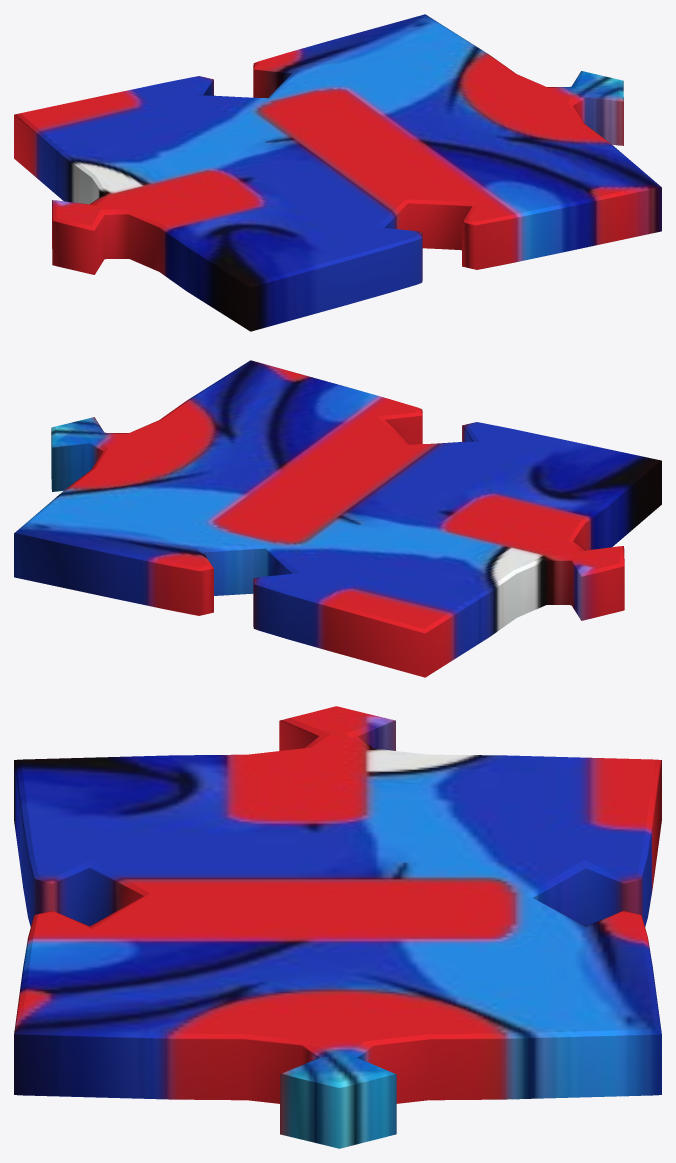
3 renders of one model, top to bottom at view 1: azimuth 30°, elevation 25°; view 2: azimuth 150°, elevation 25°; view 3: azimuth 270°, elevation 25°, orthographic. The views are drawn at different scales.
Parts seen in each view (by area): view 1: jigsawPuzzle4x3_Grp_piece_2x2_Grp_Geo; view 2: jigsawPuzzle4x3_Grp_piece_2x2_Grp_Geo; view 3: jigsawPuzzle4x3_Grp_piece_2x2_Grp_Geo.
Boxes of the visible parts, x1,y1,x2,y2 form: jigsawPuzzle4x3_Grp_piece_2x2_Grp_Geo: [14, 14, 661, 331]; jigsawPuzzle4x3_Grp_piece_2x2_Grp_Geo: [14, 360, 661, 677]; jigsawPuzzle4x3_Grp_piece_2x2_Grp_Geo: [14, 706, 661, 1148].
Size of the model in its own units: 1.36 by 0.11 by 0.9774.
Materials: 1 (1 with a texture image).
